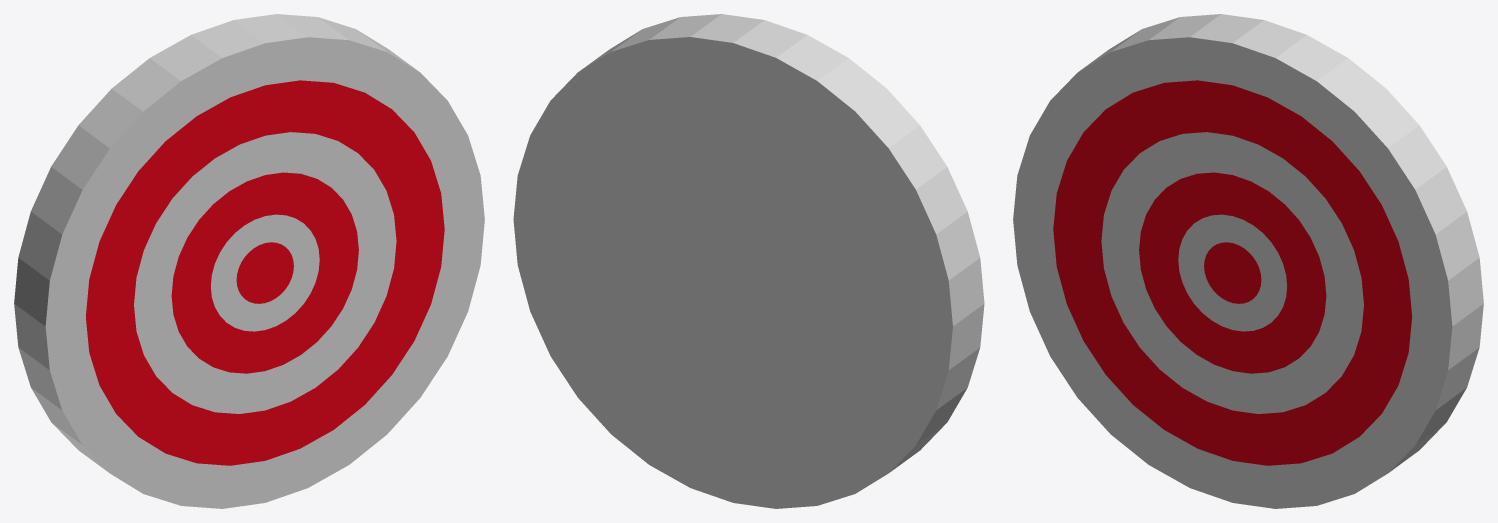
The model's file is Target_01.fbx.
The picture shows the model from 3 angles, left to right: view 1: azimuth 30°, elevation 25°; view 2: azimuth 150°, elevation 25°; view 3: azimuth 330°, elevation 25°; orthographic projection.
Parts seen in each view (by area): view 1: Target; view 2: Target; view 3: Target.
Boxes of the visible parts, left/top/right/bottom form: Target: left=14, top=14, right=484, bottom=508; Target: left=513, top=14, right=984, bottom=508; Target: left=1013, top=14, right=1483, bottom=508.
Bounding box in the file's own units: 185 × 22.96 × 185.
